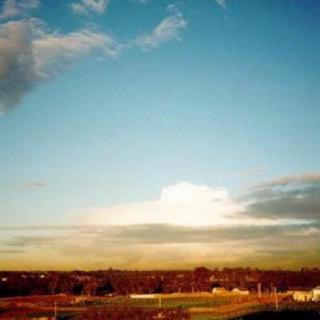Stratocumulus: (0, 0, 246, 119), (1, 171, 320, 258)
